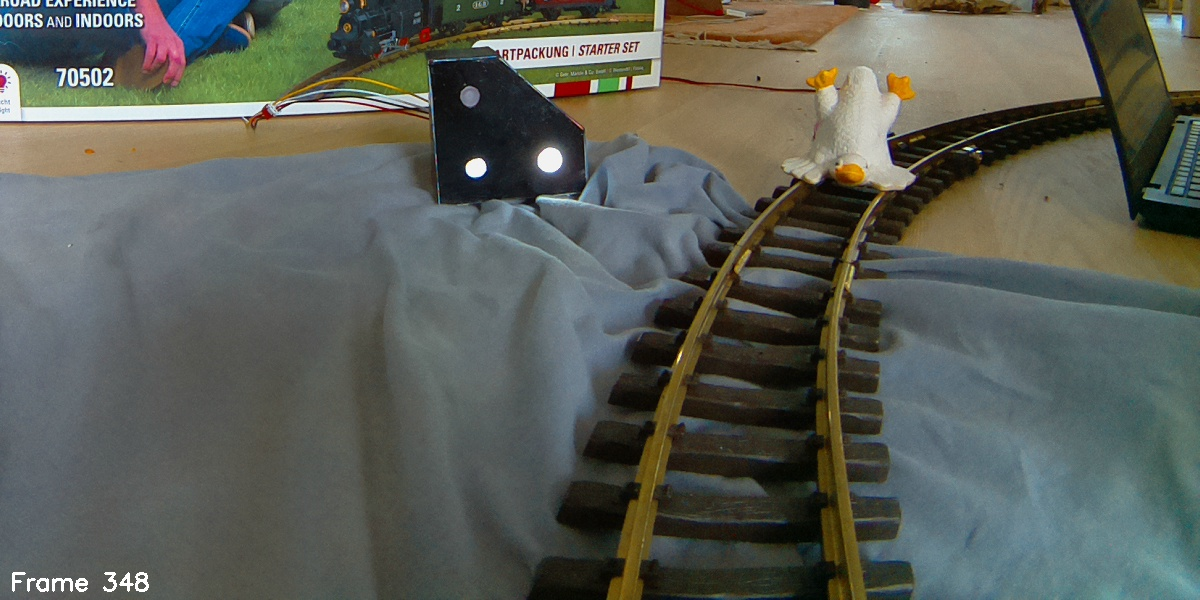Ente: (783, 64, 916, 195)
Halt: (422, 45, 587, 204)
